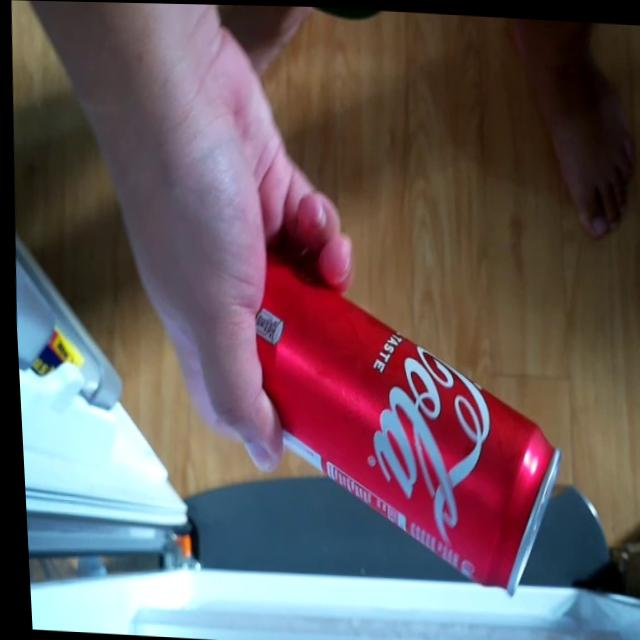coke: (229, 238, 576, 615)
